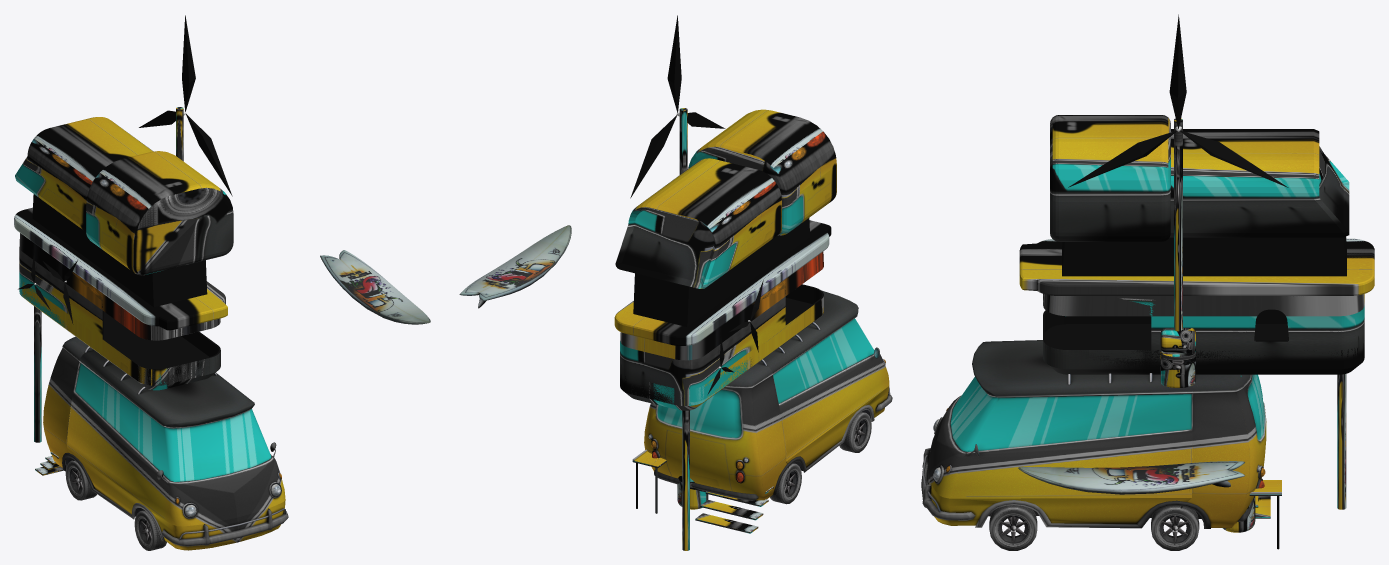
The model's file is LowPolySkeletonOfVan.fbx.
The picture shows the model from 3 angles, left to right: view 1: azimuth 30°, elevation 25°; view 2: azimuth 150°, elevation 25°; view 3: azimuth 270°, elevation 25°; orthographic projection. The views are drawn at different scales.
Parts seen in each view (by area): view 1: VanBody.002, VanBody, VanBody.001, FullBody.001, FullBody.002, VanBody.015, WheelFrontRight, WheelBackRight, VanBody.005, VanBody.006; view 2: VanBody.002, VanBody, FullBody.002, VanBody.001, FullBody.001, VanBody.015, WheelFrontRight, WheelBackRight, VanBody.005, VanBody.007, VanBody.004, VanSteps.001 (+2 smaller); view 3: VanBody.002, VanBody, VanBody.001, FullBody.002, FullBody.001, VanBody.004, WheelFrontLeft, WheelBackLeft, VanBody.015, VanBody.005, VanBody.007, VanBody.006 (+2 smaller).
Boxes of the visible parts, x1,y1,x2,y2 form: VanBody.002: [14, 117, 233, 330]; VanBody: [62, 346, 288, 550]; VanBody.001: [19, 233, 220, 390]; FullBody.001: [320, 250, 430, 324]; FullBody.002: [43, 336, 93, 467]; VanBody.015: [34, 306, 41, 442]; WheelFrontRight: [134, 510, 166, 550]; WheelBackRight: [65, 460, 96, 500]; VanBody.005: [182, 15, 195, 111]; VanBody.006: [186, 114, 232, 196]; VanBody.002: [614, 109, 836, 345]; VanBody: [759, 290, 892, 494]; FullBody.002: [644, 362, 787, 500]; VanBody.001: [620, 252, 823, 410]; FullBody.001: [459, 225, 571, 308]; VanBody.015: [682, 410, 689, 550]; WheelFrontRight: [839, 412, 871, 452]; WheelBackRight: [770, 463, 801, 504]; VanBody.005: [667, 15, 681, 112]; VanBody.007: [630, 115, 677, 198]; VanBody.004: [679, 108, 687, 174]; VanSteps.001: [632, 449, 666, 513]; VanBody.002: [1019, 115, 1374, 295]; VanBody: [921, 340, 1210, 528]; VanBody.001: [1043, 294, 1364, 387]; FullBody.002: [1187, 374, 1266, 527]; FullBody.001: [1018, 461, 1244, 494]; VanBody.004: [1174, 118, 1182, 331]; WheelFrontLeft: [989, 505, 1037, 550]; WheelBackLeft: [1151, 506, 1199, 550]; VanBody.015: [1337, 374, 1346, 509]; VanBody.005: [1169, 14, 1186, 128]; VanBody.007: [1180, 130, 1288, 187]; VanBody.006: [1068, 130, 1176, 187].
Size of the model in its own units: 1717 by 2433 by 1857.
